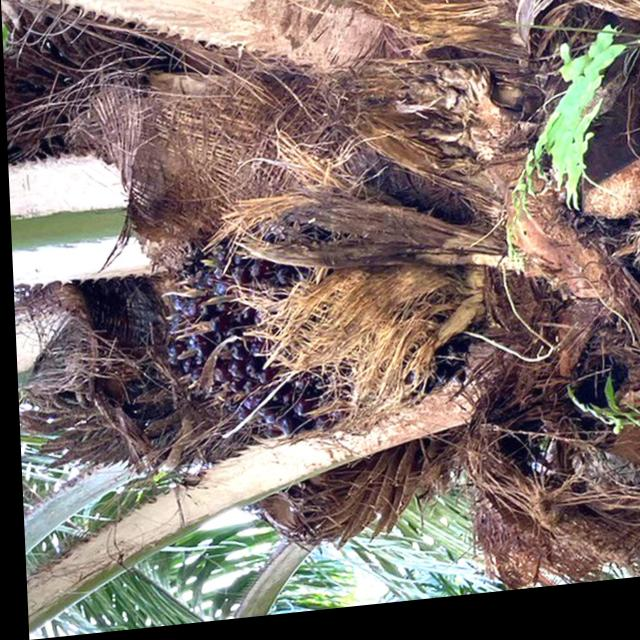almost: (142, 194, 459, 466)
